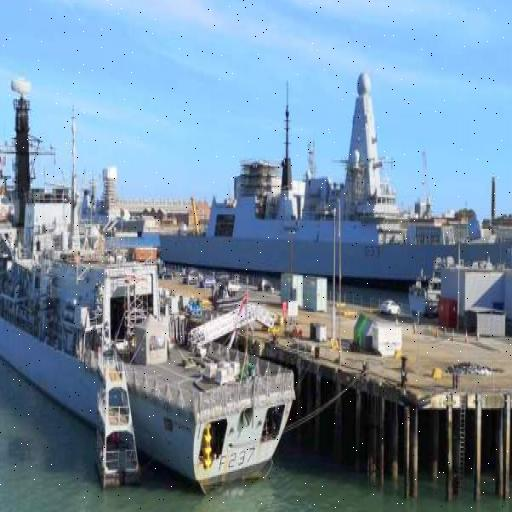Fragata: (1, 81, 303, 497)
